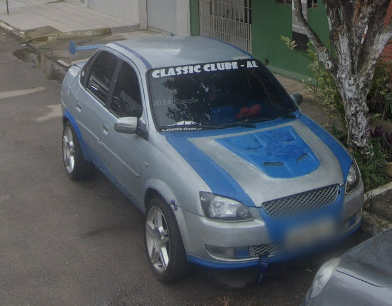car: (50, 28, 371, 282)
